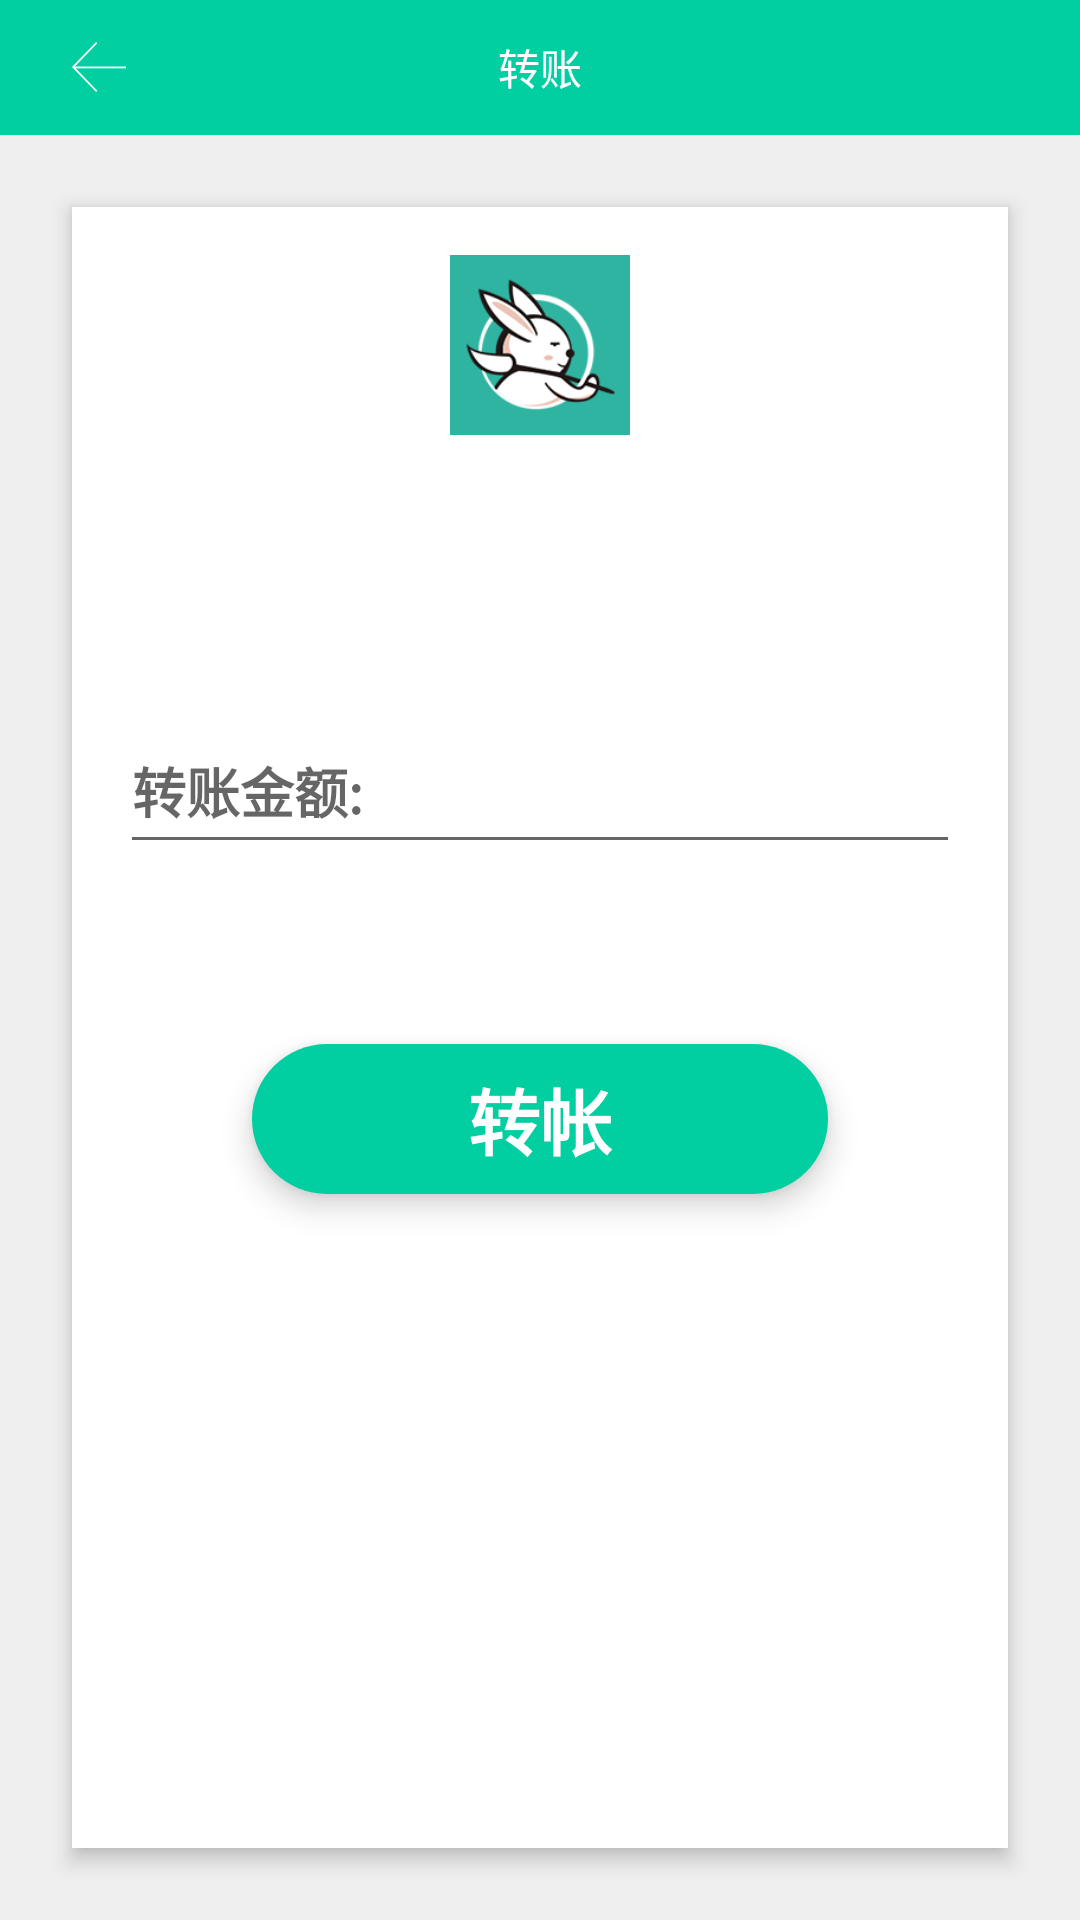

Icon bounding boxes for this 1080px×1920px phone screenshot, format (x1, y1, x2, y2):
back: (72, 42, 126, 92)
